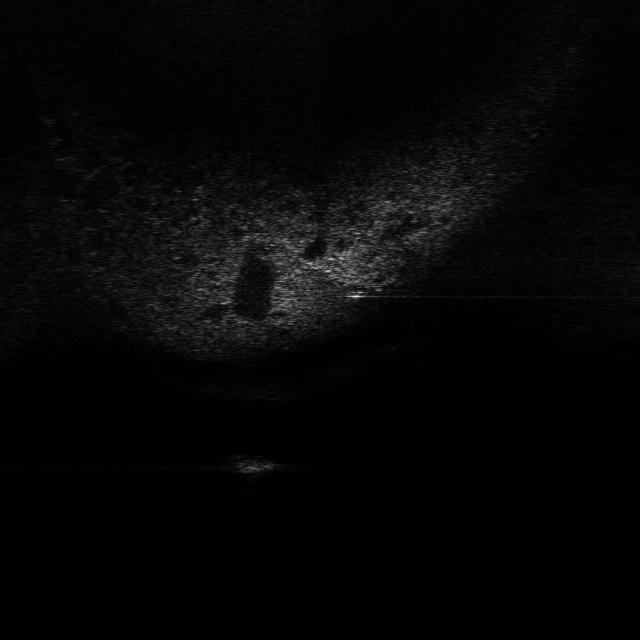cube: (216, 451, 286, 479)
